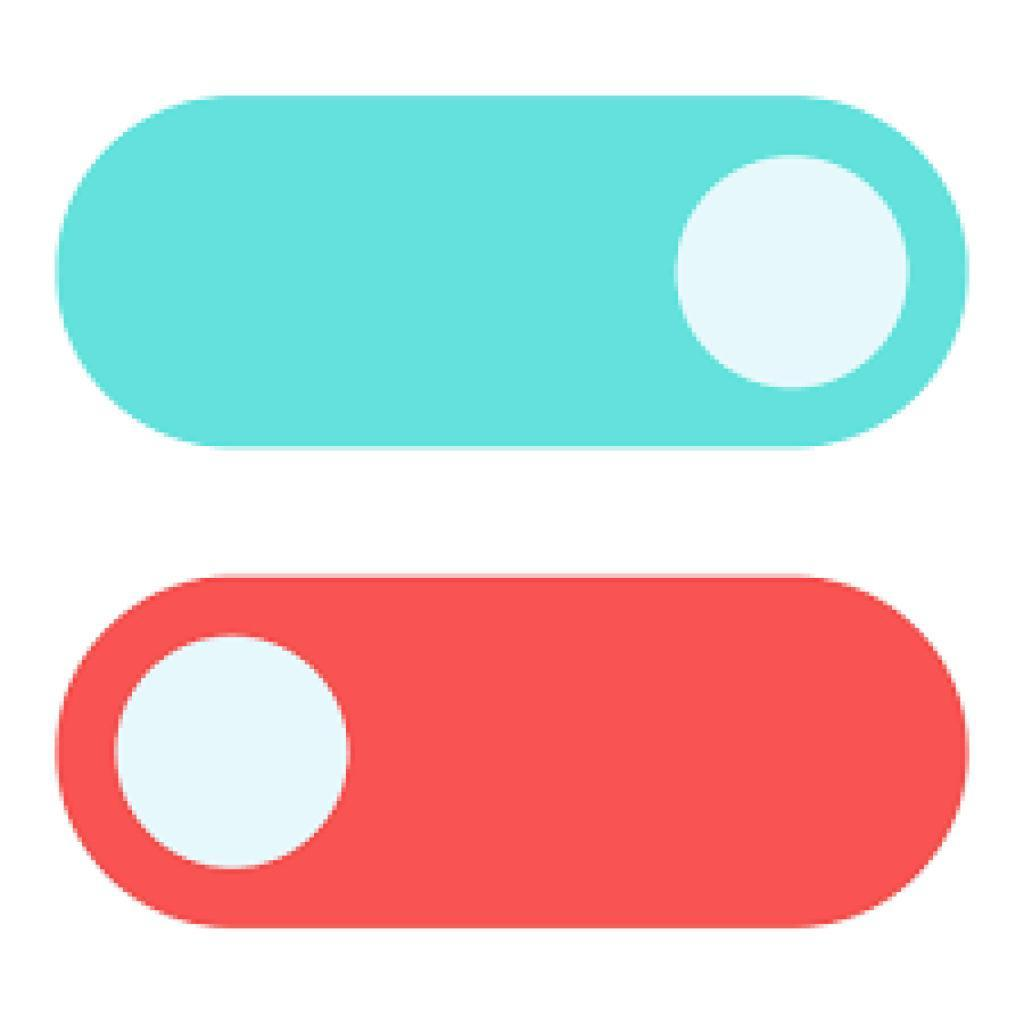checkbox: (59, 577, 968, 931), (55, 101, 971, 447)
